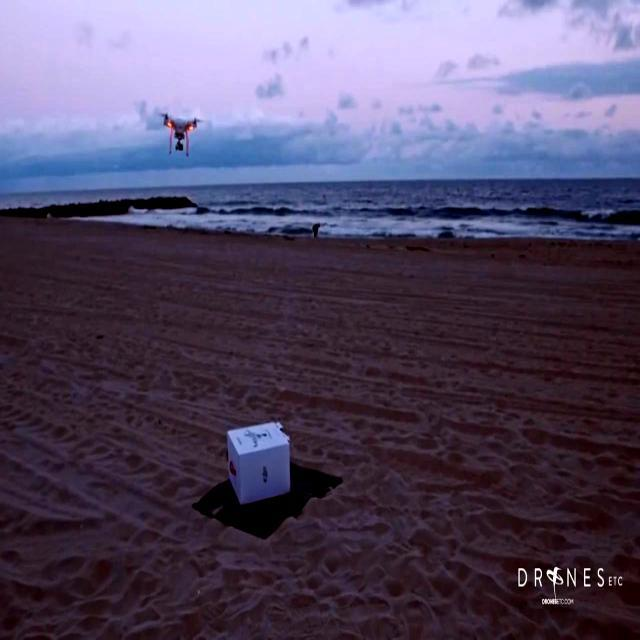drone: (162, 104, 200, 160)
